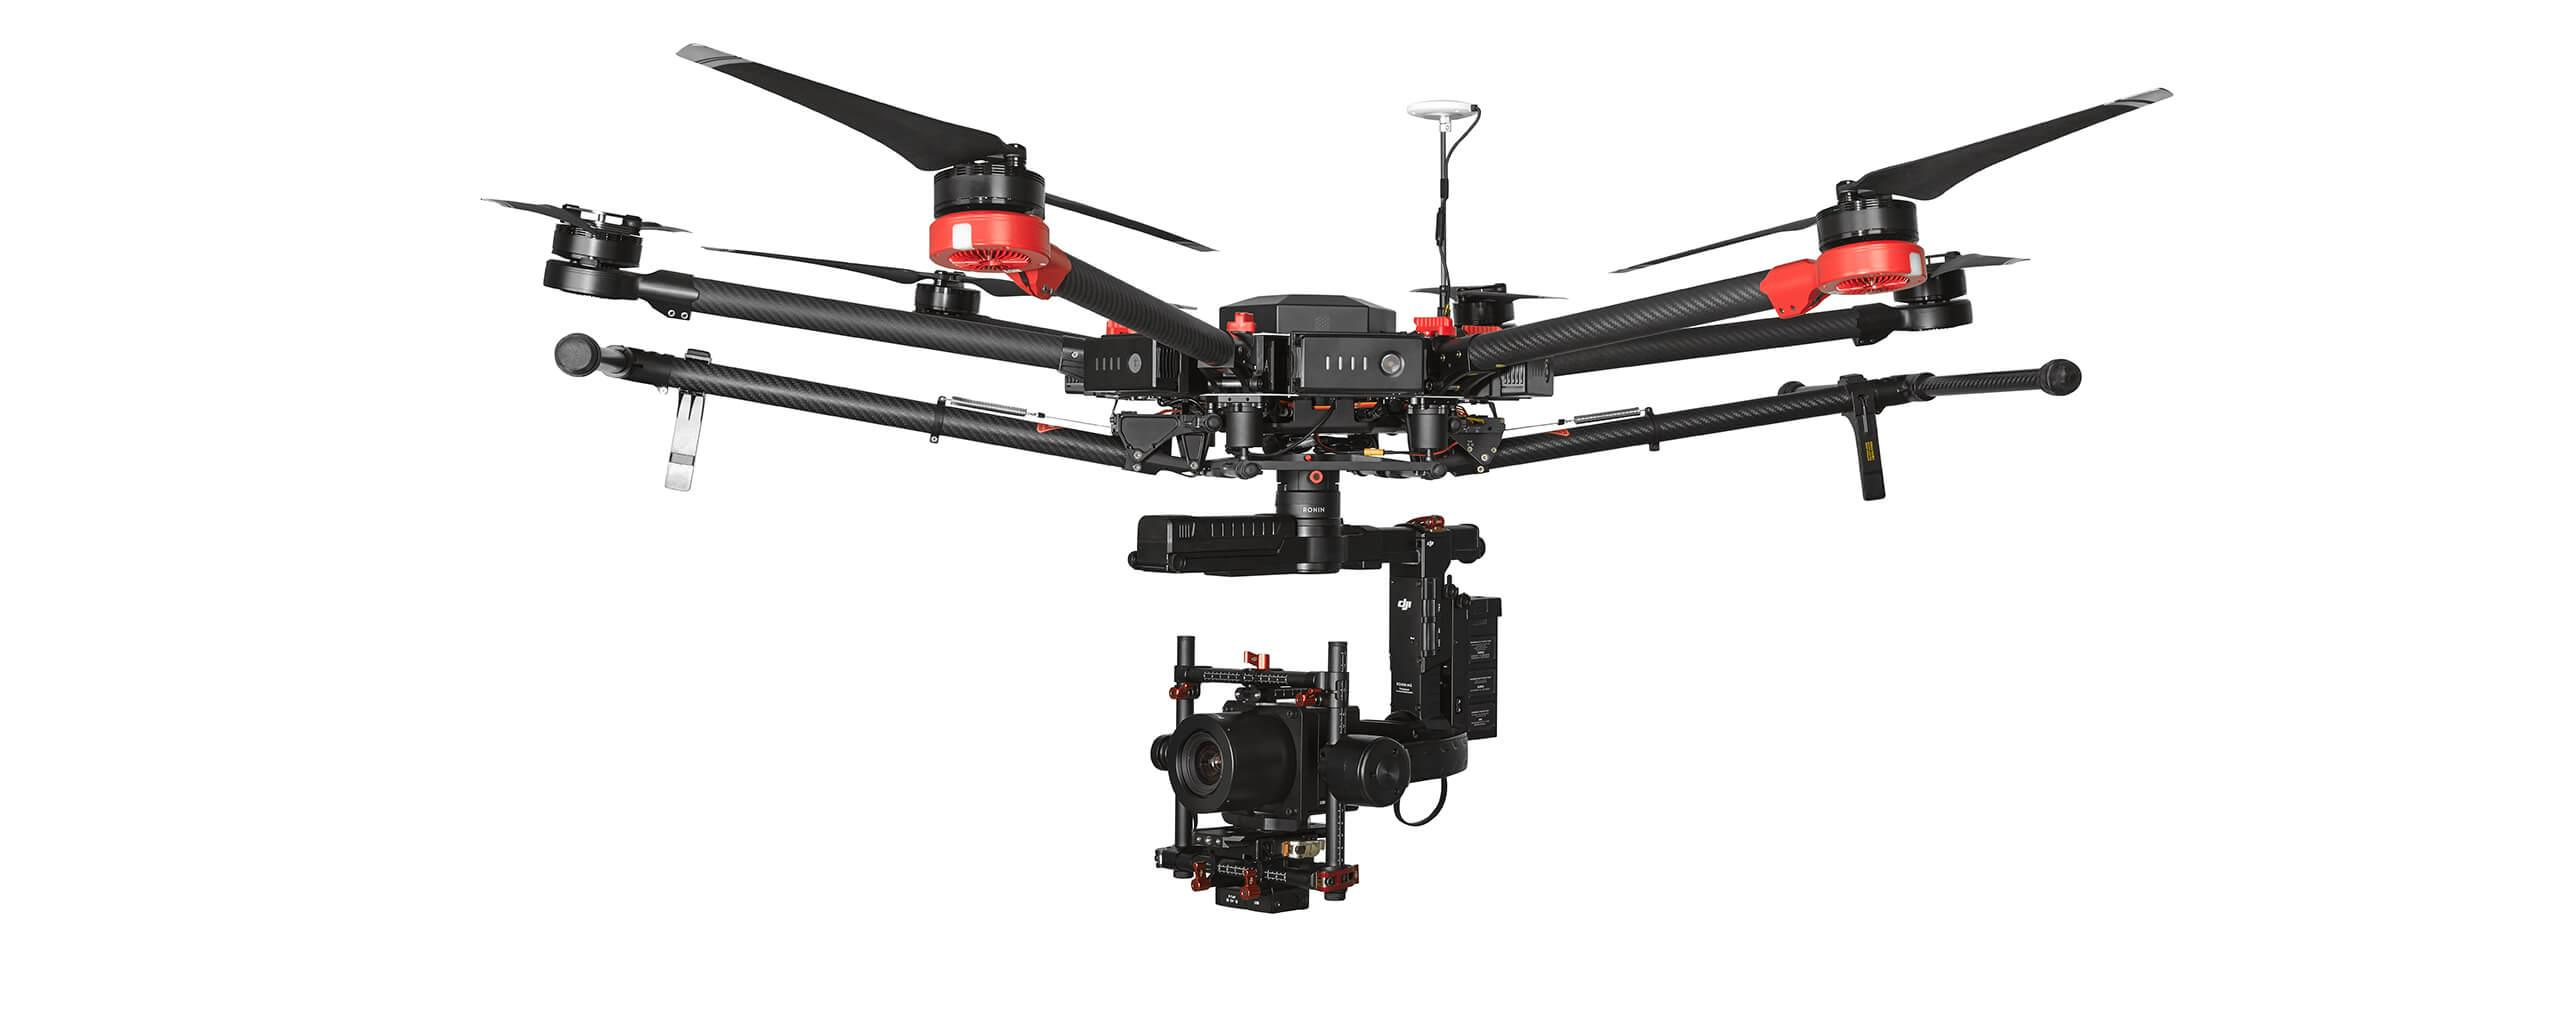drone: (389, 42, 2290, 621)
